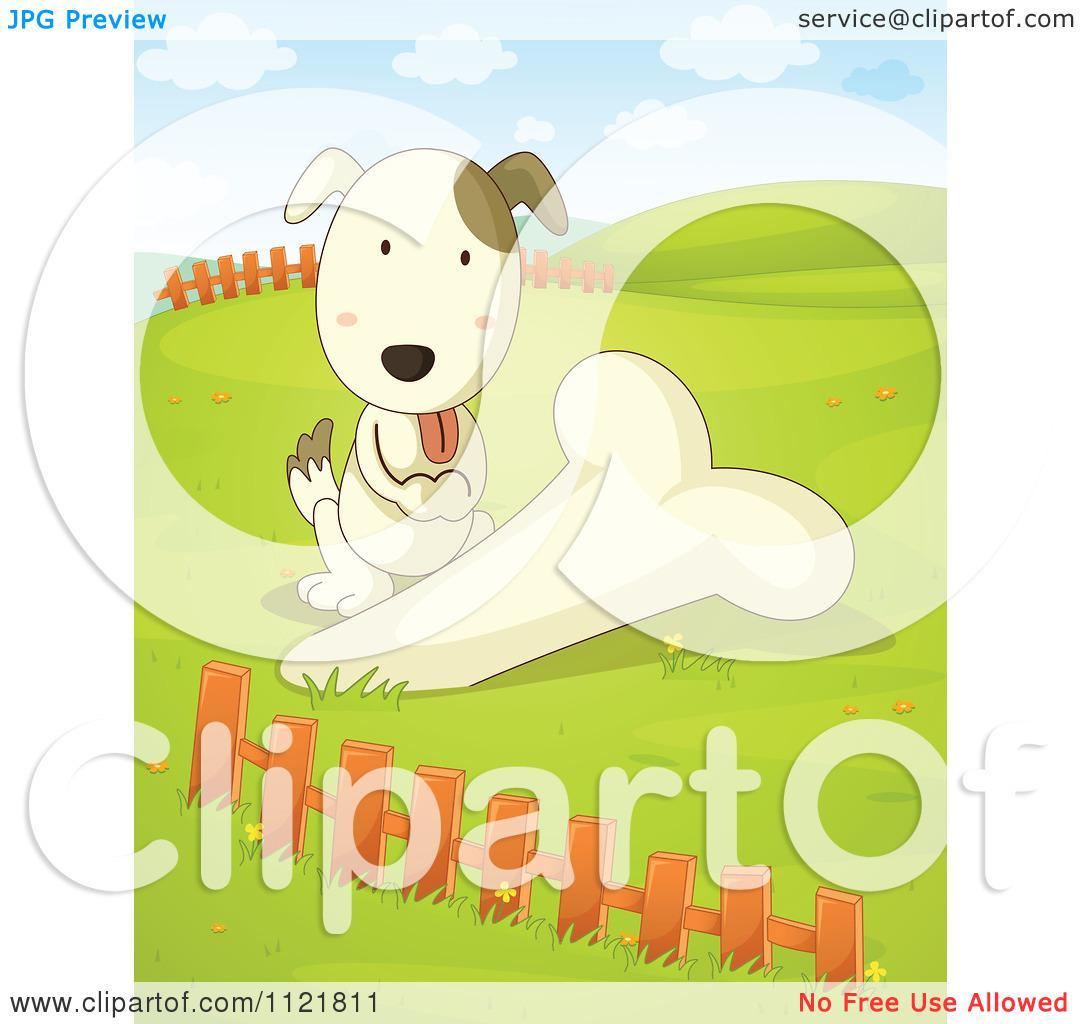dog: (265, 139, 580, 614)
